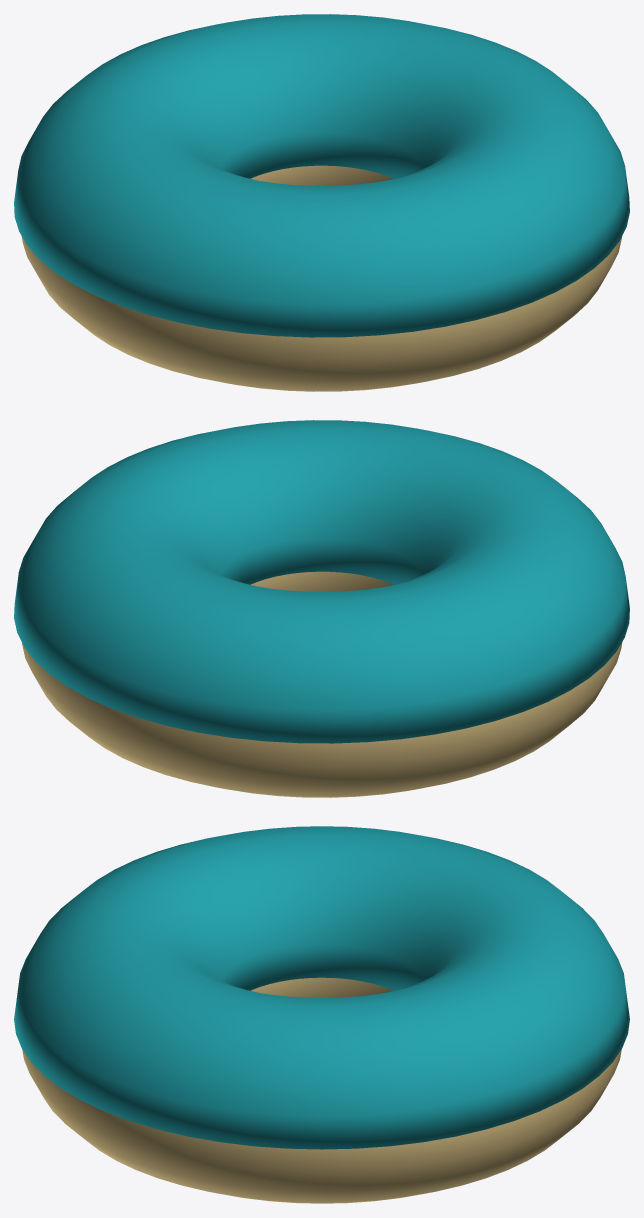
3 renders of one model, top to bottom at view 1: azimuth 30°, elevation 25°; view 2: azimuth 150°, elevation 25°; view 3: azimuth 270°, elevation 25°, orthographic.
Visible parts, largest first — view 1: Torus.002, Torus.001; view 2: Torus.002, Torus.001; view 3: Torus.002, Torus.001.
Boxes of the visible parts, x1,y1,x2,y2 form: Torus.002: (14,14,629,337); Torus.001: (21,165,622,391); Torus.002: (14,420,629,743); Torus.001: (21,571,622,797); Torus.002: (14,826,629,1149); Torus.001: (22,977,621,1203).
Bounding box in the file's own units: 3.03 × 1.02 × 3.03.
